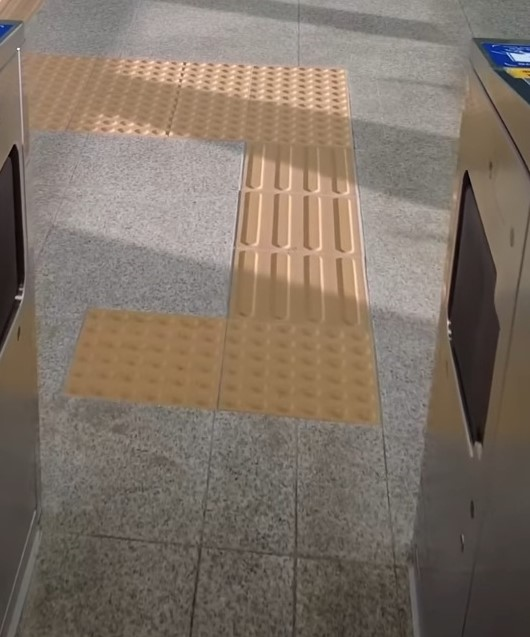guideBlock: (230, 256, 372, 319), (232, 199, 358, 255), (247, 141, 355, 195)
warningBlock: (218, 321, 375, 421), (76, 315, 217, 395), (249, 101, 359, 146), (176, 102, 264, 152), (254, 68, 346, 113), (76, 98, 177, 138), (101, 60, 191, 104), (194, 63, 258, 94)
